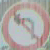Don't turn left: (0, 2, 48, 49)
